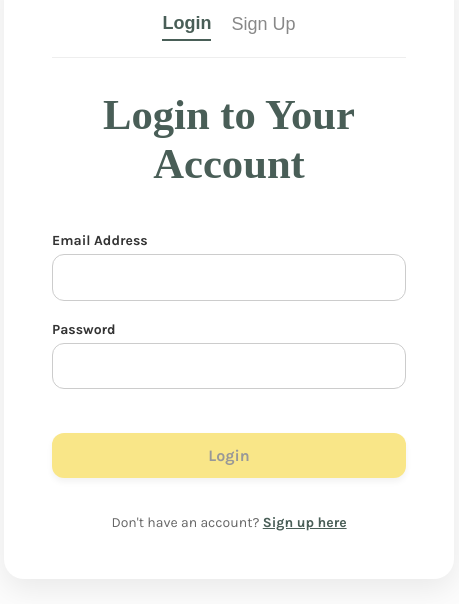
Test case: LoginPage submit button matches validation state
Expected: the submit button is disabled, [52,433,406,478]
Type "valid@mail.com" into the field labelled "Email Address" at (229, 277), box [52,254,406,301]
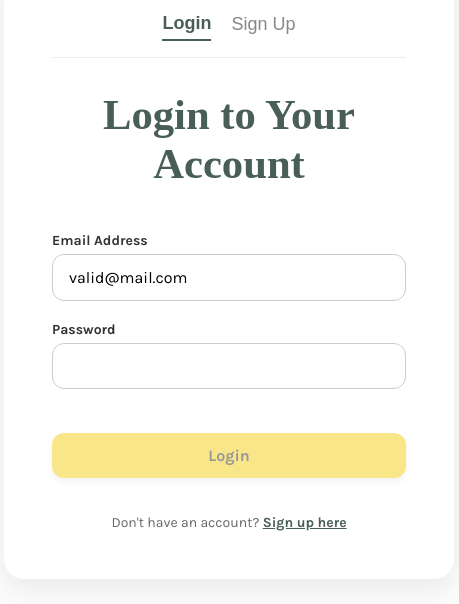
Type "123456" into the password field labelled "Password" at (229, 366), box [52,343,406,389]
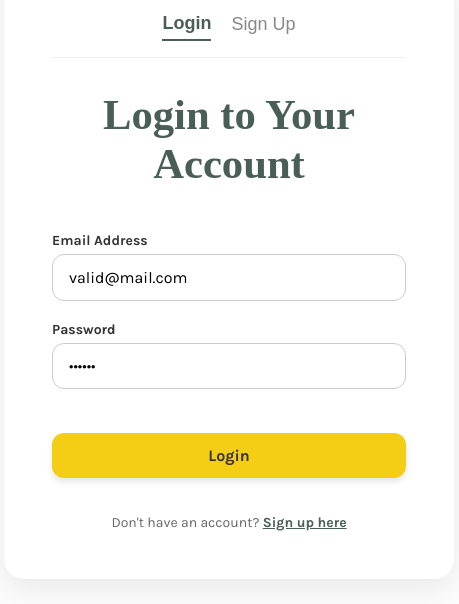
Expected: the submit button is enabled, [52,433,406,478]
